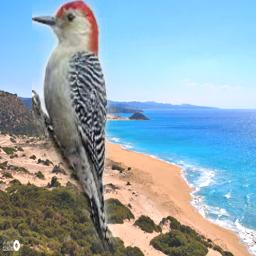Woodpecker: (32, 0, 121, 255)
